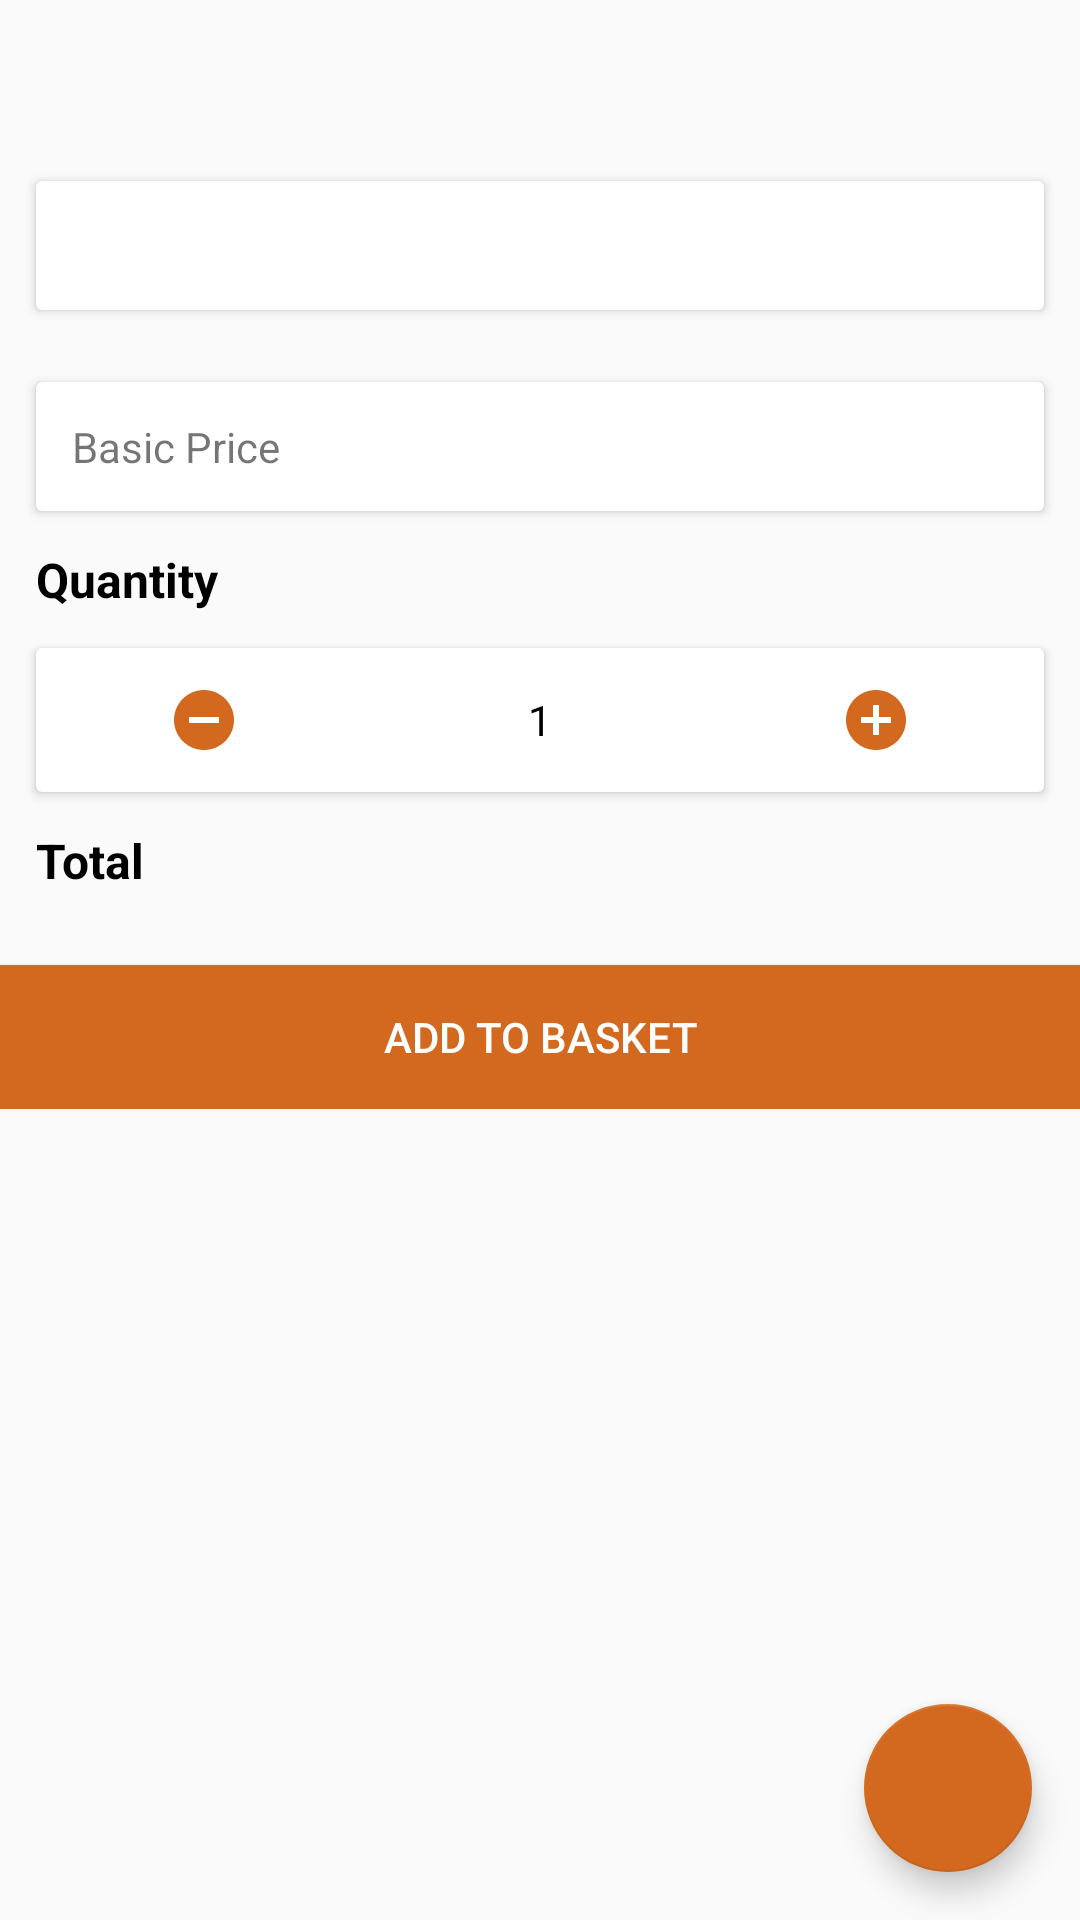

Locate icon controls on the screen. Image size 1080 x 1920, boxes as (x1, y1, x2, y2).
add: (846, 690, 906, 750)
minus: (174, 690, 234, 750)
